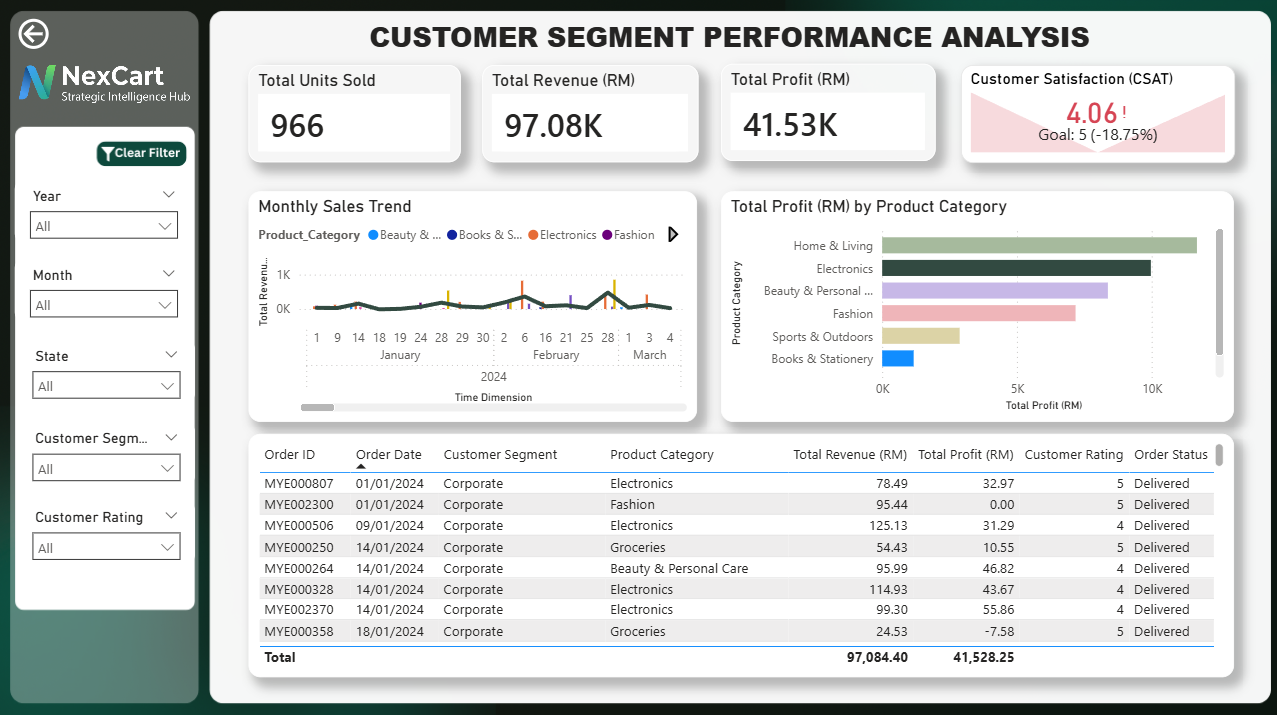

The page's visual inventory and layout, read from the dashboard file:
{"tool":"powerbi","page":{"name":"Detailed Analysis","canvas":[1280,720],"ordinal":1},"visuals":[{"type":"image","box":[0,0,1280.3,720.4],"z":0},{"type":"cardVisual","title":"Total Revenue (RM)","fields":{"Data":["Sum(CleanEcommerceTable.Sales_Revenue_RM)"]},"box":[483.9,69.7,215.2,97],"z":1000},{"type":"cardVisual","title":"Total Profit (RM)","fields":{"Data":["Sum(CleanEcommerceTable.Profit_RM)"]},"box":[721.5,68.4,214,97],"z":2000},{"type":"cardVisual","title":"Total Units Sold","fields":{"Data":["Sum(CleanEcommerceTable.Quantity)"]},"box":[251.4,70,211.4,97.1],"z":3000},{"type":"kpi","title":"Customer Satisfaction (CSAT)","fields":{"Indicator":["Avg(CleanEcommerceTable.Customer_Rating)"],"Goal":["Max(CleanEcommerceTable.Customer_Rating)"],"TrendLine":["Dim_Date.Year"]},"box":[960.3,69.4,273.1,97.4],"z":4000},{"type":"lineClusteredColumnComboChart","title":"Monthly Sales Trend","fields":{"Y":["Sum(CleanEcommerceTable.Sales_Revenue_RM)"],"Series":["CleanEcommerceTable.Product_Category"],"Category":["Dim_Date.Date.Variation.Date Hierarchy.Year","Dim_Date.Date.Variation.Date Hierarchy.Month","Dim_Date.Date.Variation.Date Hierarchy.Day"],"Y2":["Sum(CleanEcommerceTable.Profit_RM)"]},"box":[251.8,194.8,446.6,229.6],"z":5000},{"type":"actionButton","box":[17.1,18.6,100,40],"z":6000},{"type":"clusteredBarChart","fields":{"Category":["CleanEcommerceTable.Product_Category"],"Y":["Sum(CleanEcommerceTable.Profit_RM)"]},"box":[722.1,194.8,510.6,229.6],"z":6001},{"type":"tableEx","fields":{"Values":["CleanEcommerceTable.Order_ID","CleanEcommerceTable.Order_Date","CleanEcommerceTable.Customer_Segment","CleanEcommerceTable.Product_Category","Sum(CleanEcommerceTable.Sales_Revenue_RM)","Sum(CleanEcommerceTable.Profit_RM)","CleanEcommerceTable.Customer_Rating","CleanEcommerceTable.Order_Status"]},"box":[251.8,436.9,980.9,242.1],"z":6002},{"type":"actionButton","box":[99.3,144,92,27.3],"z":6003},{"type":"slicer","fields":{"Values":["Dim_Date.Year"]},"box":[19.2,181.7,177,67.2],"z":6004},{"type":"slicer","fields":{"Values":["Dim_Date.Month"]},"box":[19.2,260,177,67.2],"z":6005},{"type":"slicer","fields":{"Values":["CleanEcommerceTable.Customer_Segment"]},"box":[20.6,423.3,177,67.2],"z":6006},{"type":"slicer","fields":{"Values":["CleanEcommerceTable.Customer_Rating"]},"box":[20.6,501.5,177,67.2],"z":6007},{"type":"slicer","fields":{"Values":["CleanEcommerceTable.State"]},"box":[20.6,340.9,177,67.2],"z":6008},{"type":"image","box":[20.9,68.2,176.7,40.3],"z":6009},{"type":"textbox","box":[361.4,17.1,735.7,85.7],"z":6010}]}

Visuals, with their boxes in screenshot pixels (x1, y1, x2, y2), scaled from the page's 1280x720 canvas onto the 1277x715 screenshot:
image: box=[0, 0, 1276, 714]
"Total Revenue (RM)" cardVisual: box=[483, 69, 697, 166]
"Total Profit (RM)" cardVisual: box=[720, 68, 933, 164]
"Total Units Sold" cardVisual: box=[251, 70, 462, 166]
"Customer Satisfaction (CSAT)" kpi: box=[958, 69, 1231, 166]
"Monthly Sales Trend" lineClusteredColumnComboChart: box=[251, 193, 697, 421]
actionButton: box=[17, 18, 117, 58]
clusteredBarChart - CleanEcommerceTable.Product_Category x Sum(CleanEcommerceTable.Profit_RM): box=[720, 193, 1230, 421]
tableEx - CleanEcommerceTable.Order_ID x CleanEcommerceTable.Order_Date: box=[251, 434, 1230, 674]
actionButton: box=[99, 143, 191, 170]
slicer - Dim_Date.Year: box=[19, 180, 196, 247]
slicer - Dim_Date.Month: box=[19, 258, 196, 325]
slicer - CleanEcommerceTable.Customer_Segment: box=[21, 420, 197, 487]
slicer - CleanEcommerceTable.Customer_Rating: box=[21, 498, 197, 565]
slicer - CleanEcommerceTable.State: box=[21, 339, 197, 405]
image: box=[21, 68, 197, 108]
textbox: box=[361, 17, 1095, 102]
